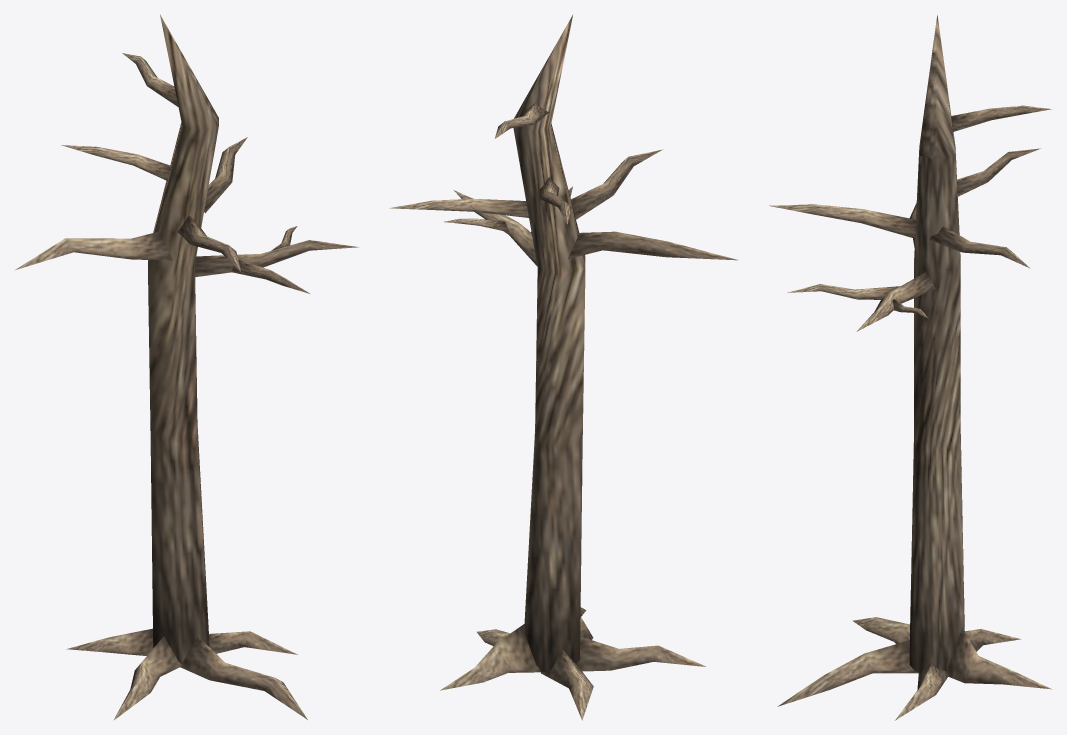
The picture shows the model from 3 angles, left to right: view 1: azimuth 30°, elevation 25°; view 2: azimuth 150°, elevation 25°; view 3: azimuth 270°, elevation 25°; orthographic projection.
Visible parts, largest first — view 1: SMDImport; view 2: SMDImport; view 3: SMDImport.
Boxes of the visible parts, x1,y1,x2,y2 form: SMDImport: [14, 14, 358, 720]; SMDImport: [389, 15, 738, 720]; SMDImport: [769, 15, 1051, 720].
Bounding box in the file's own units: 159 × 321 × 125.
